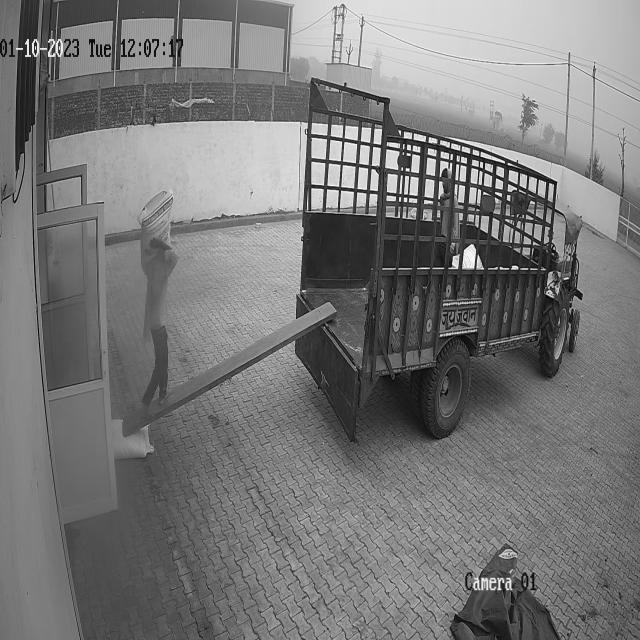sack: (138, 190, 174, 276), (111, 418, 153, 458)
